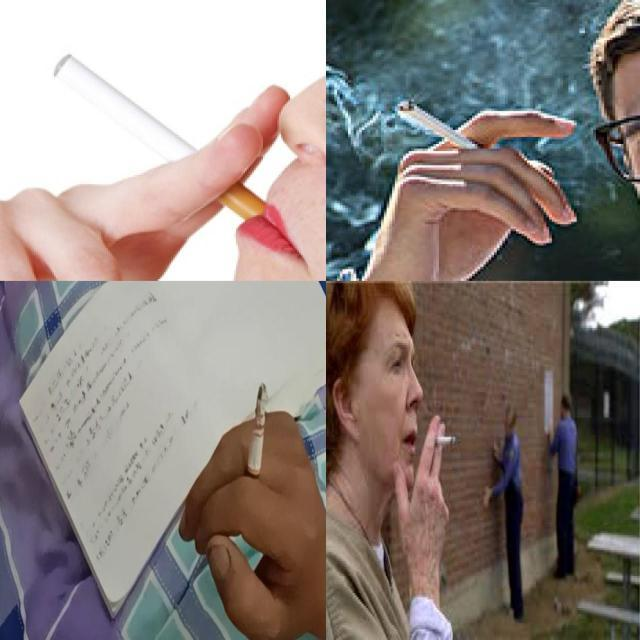smoking: (50, 52, 272, 230), (392, 96, 480, 148), (242, 380, 270, 505), (432, 436, 457, 446)
